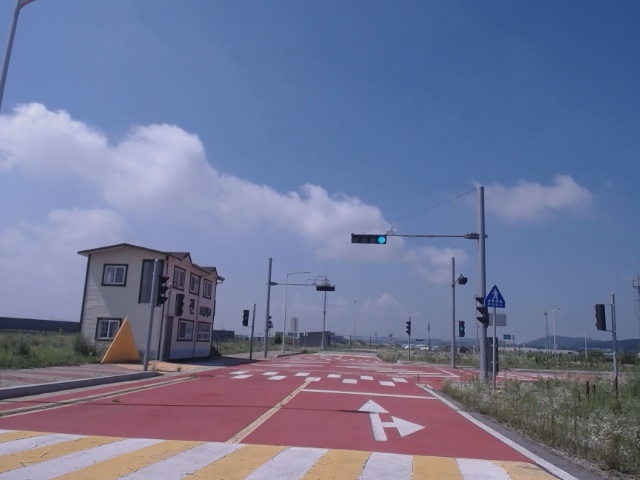straight_green_4: (352, 235, 387, 244)
